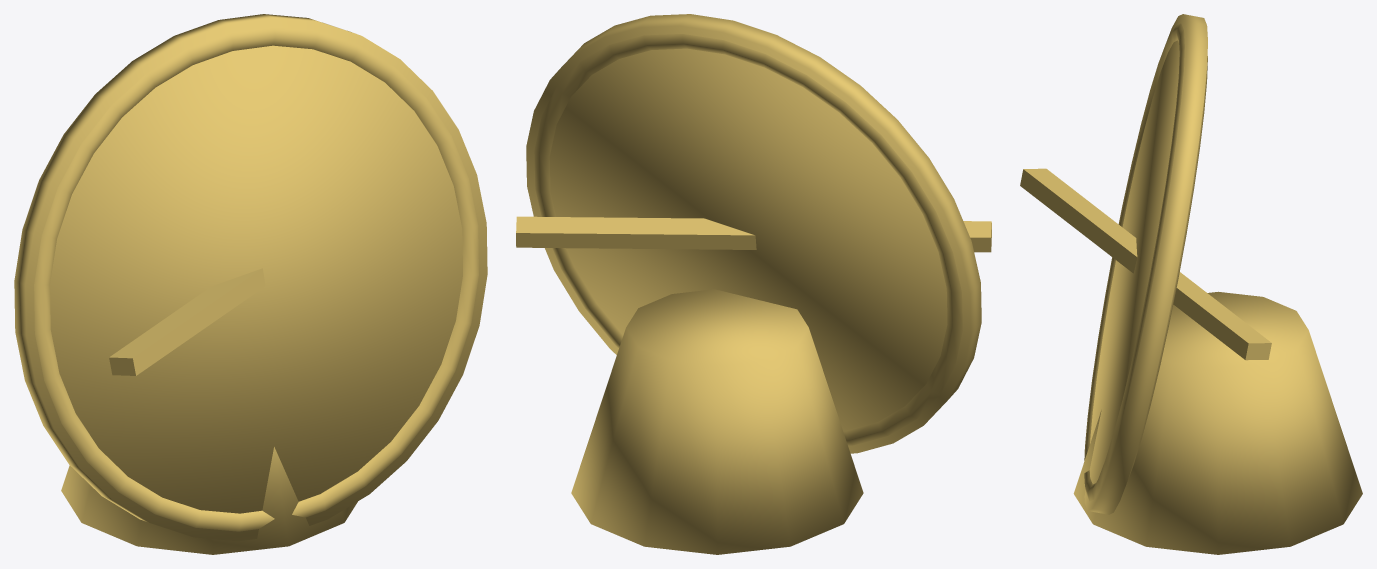
Rendered from science_astrolabe.glb.
3 views of the same model, side by side, from view 1: azimuth 30°, elevation 25°; view 2: azimuth 150°, elevation 25°; view 3: azimuth 270°, elevation 25° (orthographic). The views are drawn at different scales.
Visible parts, largest first — view 1: GD_science_astrolabe__m0; view 2: GD_science_astrolabe__m0; view 3: GD_science_astrolabe__m0.
Part boxes in pixels (box(x1,y1,x2,y2)): GD_science_astrolabe__m0: box(14, 14, 487, 554); GD_science_astrolabe__m0: box(516, 14, 991, 554); GD_science_astrolabe__m0: box(1020, 14, 1362, 554).
Bounding box in the file's own units: 0.28 × 0.2783 × 0.1897.
